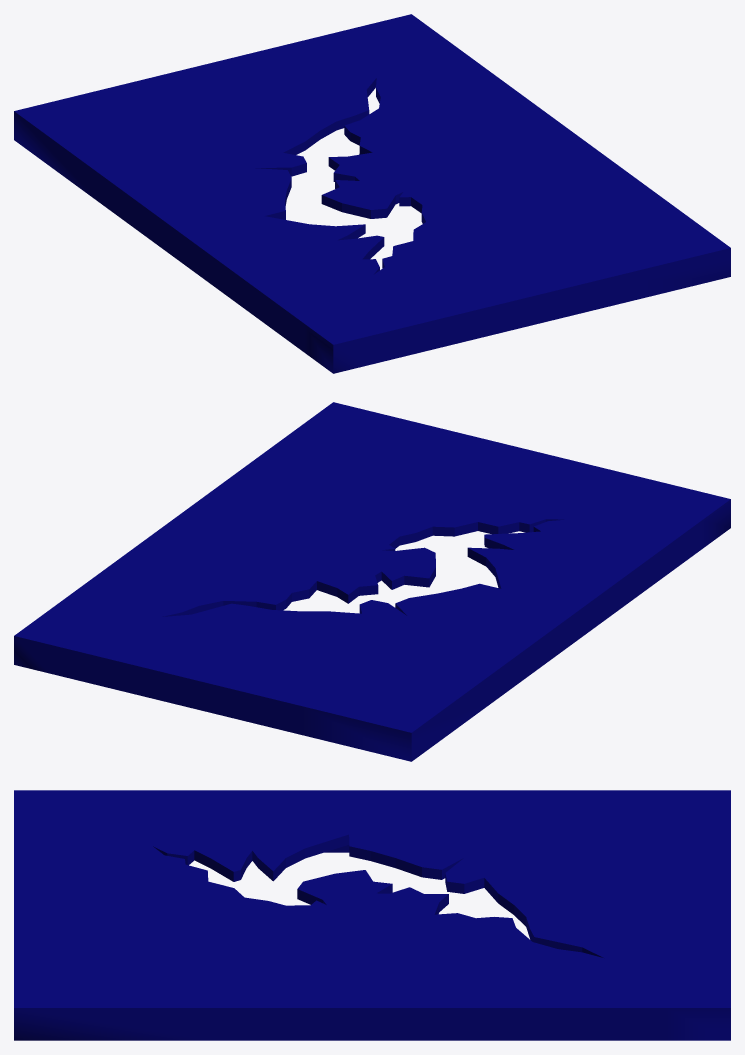
The model's file is test plafond 1.fbx.
3 renders of one model, top to bottom at view 1: azimuth 30°, elevation 25°; view 2: azimuth 150°, elevation 25°; view 3: azimuth 270°, elevation 25°, orthographic. The views are drawn at different scales.
Parts seen in each view (by area): view 1: W1_Plafond_Sale_2_002; view 2: W1_Plafond_Sale_2_002; view 3: W1_Plafond_Sale_2_002.
Boxes of the visible parts, x1,y1,x2,y2 form: W1_Plafond_Sale_2_002: (14,14,730,373); W1_Plafond_Sale_2_002: (14,402,730,761); W1_Plafond_Sale_2_002: (14,790,730,1040).
Size of the model in its own units: 2300 by 160 by 3200.
